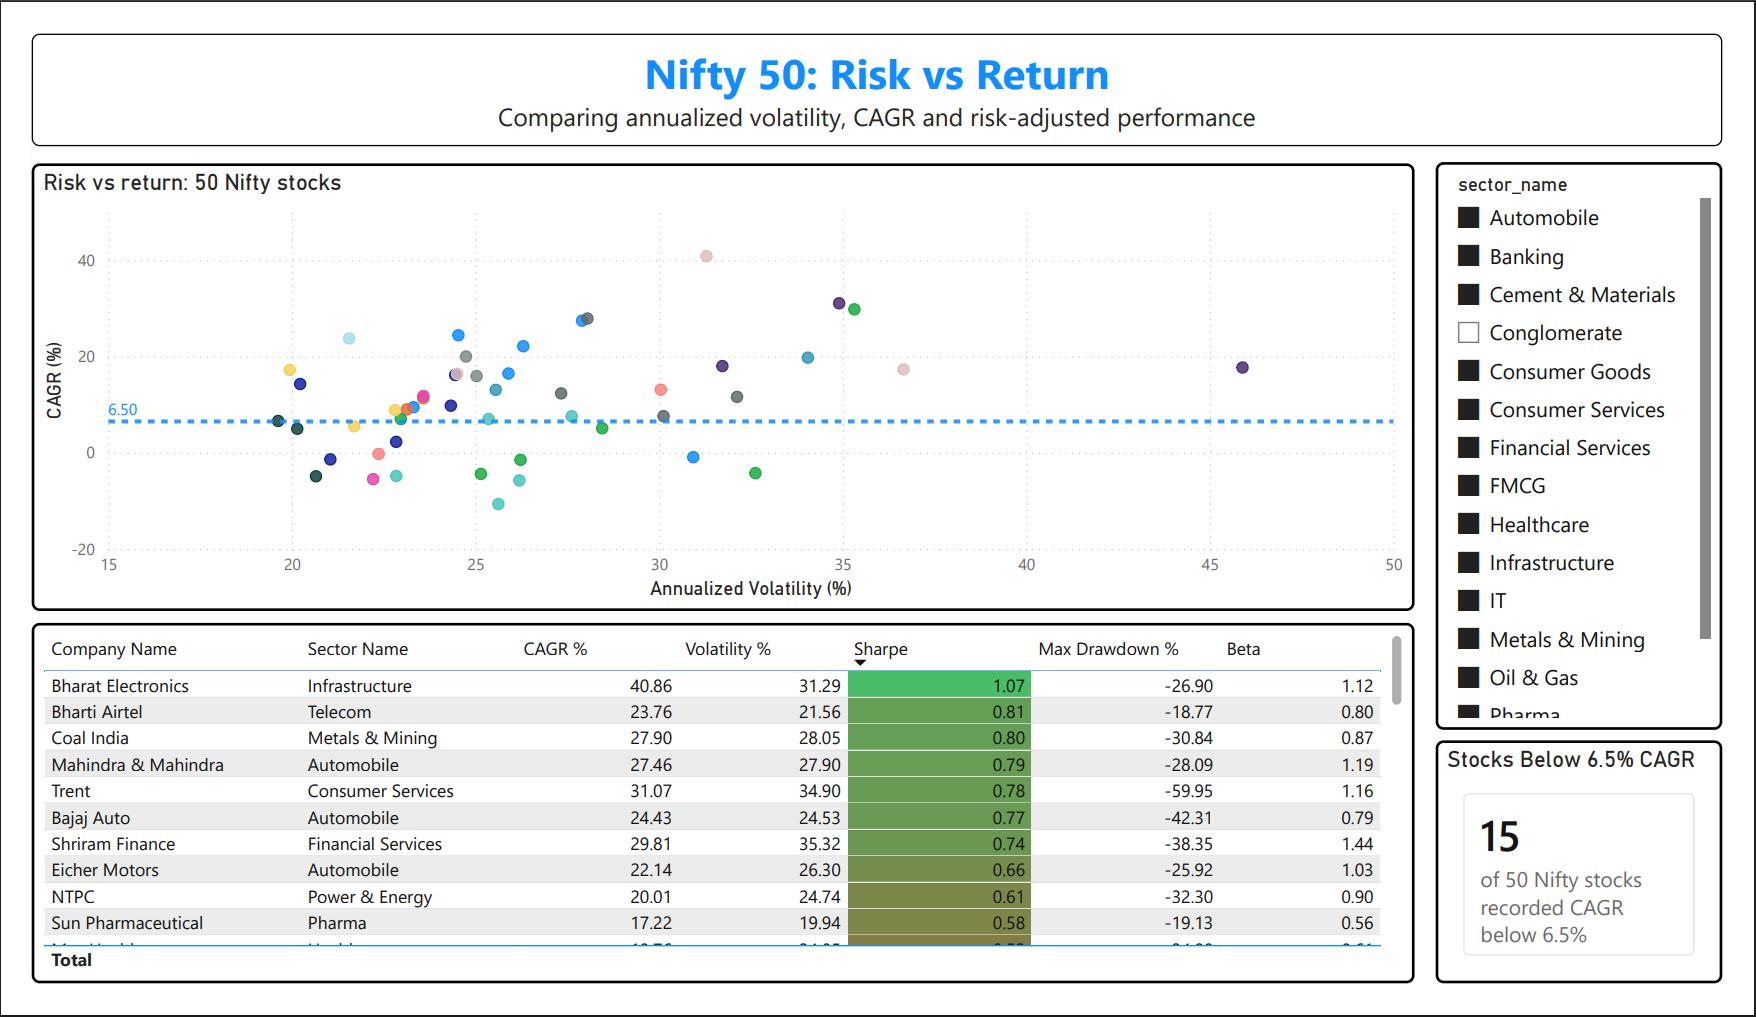

The dashboard page shown, as its layout file describes it:
{"tool":"powerbi","page":{"name":"Risk vs Return","canvas":[1280,720],"ordinal":1},"visuals":[{"type":"scatterChart","title":"Risk vs return: 50 Nifty stocks","fields":{"X":["Avg(stock_metrics.ann_volatility_pct)"],"Y":["Avg(stock_metrics.cagr_pct)"],"Series":["DimSector.sector_name"],"Category":["stock_metrics.company_name"]},"box":[0,98.8,1046.7,338.9],"z":0},{"type":"tableEx","fields":{"Values":["stock_metrics.company_name","stock_metrics.sector_name","stock_metrics.cagr_pct","stock_metrics.ann_volatility_pct","stock_metrics.sharpe_ratio","stock_metrics.max_drawdown_pct","stock_metrics.beta_vs_nifty"]},"box":[0,446.7,1046.7,273.3],"z":1000},{"type":"slicer","fields":{"Values":["DimSector.sector_name"]},"box":[1063.3,97.8,216.7,430],"z":2000},{"type":"textbox","box":[0,0,1280,85.6],"z":3000},{"type":"cardVisual","title":"Stocks Below 6.5% CAGR","fields":{"Data":["stock_metrics.Stocks Below Risk-Free"]},"box":[1063.3,535.6,216.7,184.4],"z":4000}]}

Visuals, with their boxes in screenshot pixels (x1, y1, x2, y2), scaled from the page's 1280x720 canvas onto the 1756x1017 screenshot:
"Risk vs return: 50 Nifty stocks" scatterChart: 0 140 1436 618
tableEx - stock_metrics.company_name x stock_metrics.sector_name: 0 631 1436 1016
slicer - DimSector.sector_name: 1459 138 1755 746
textbox: 0 0 1755 121
"Stocks Below 6.5% CAGR" cardVisual: 1459 757 1755 1016
